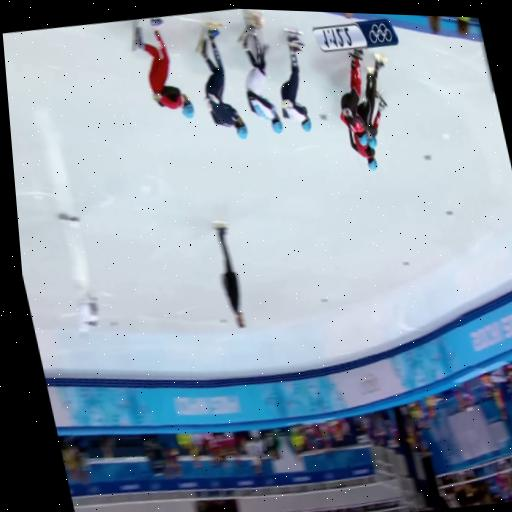Skater: (132, 18, 194, 117), (196, 23, 247, 138), (239, 22, 283, 133), (355, 53, 389, 149), (281, 31, 311, 131), (338, 47, 368, 147), (345, 125, 380, 174)
